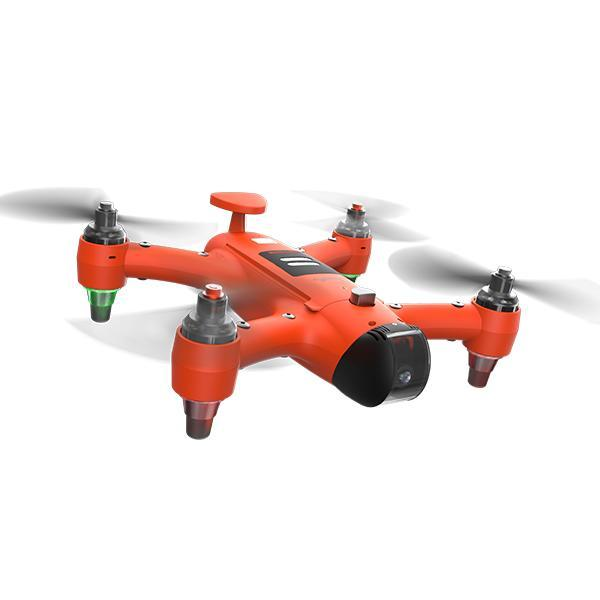drone: (1, 168, 600, 443)
